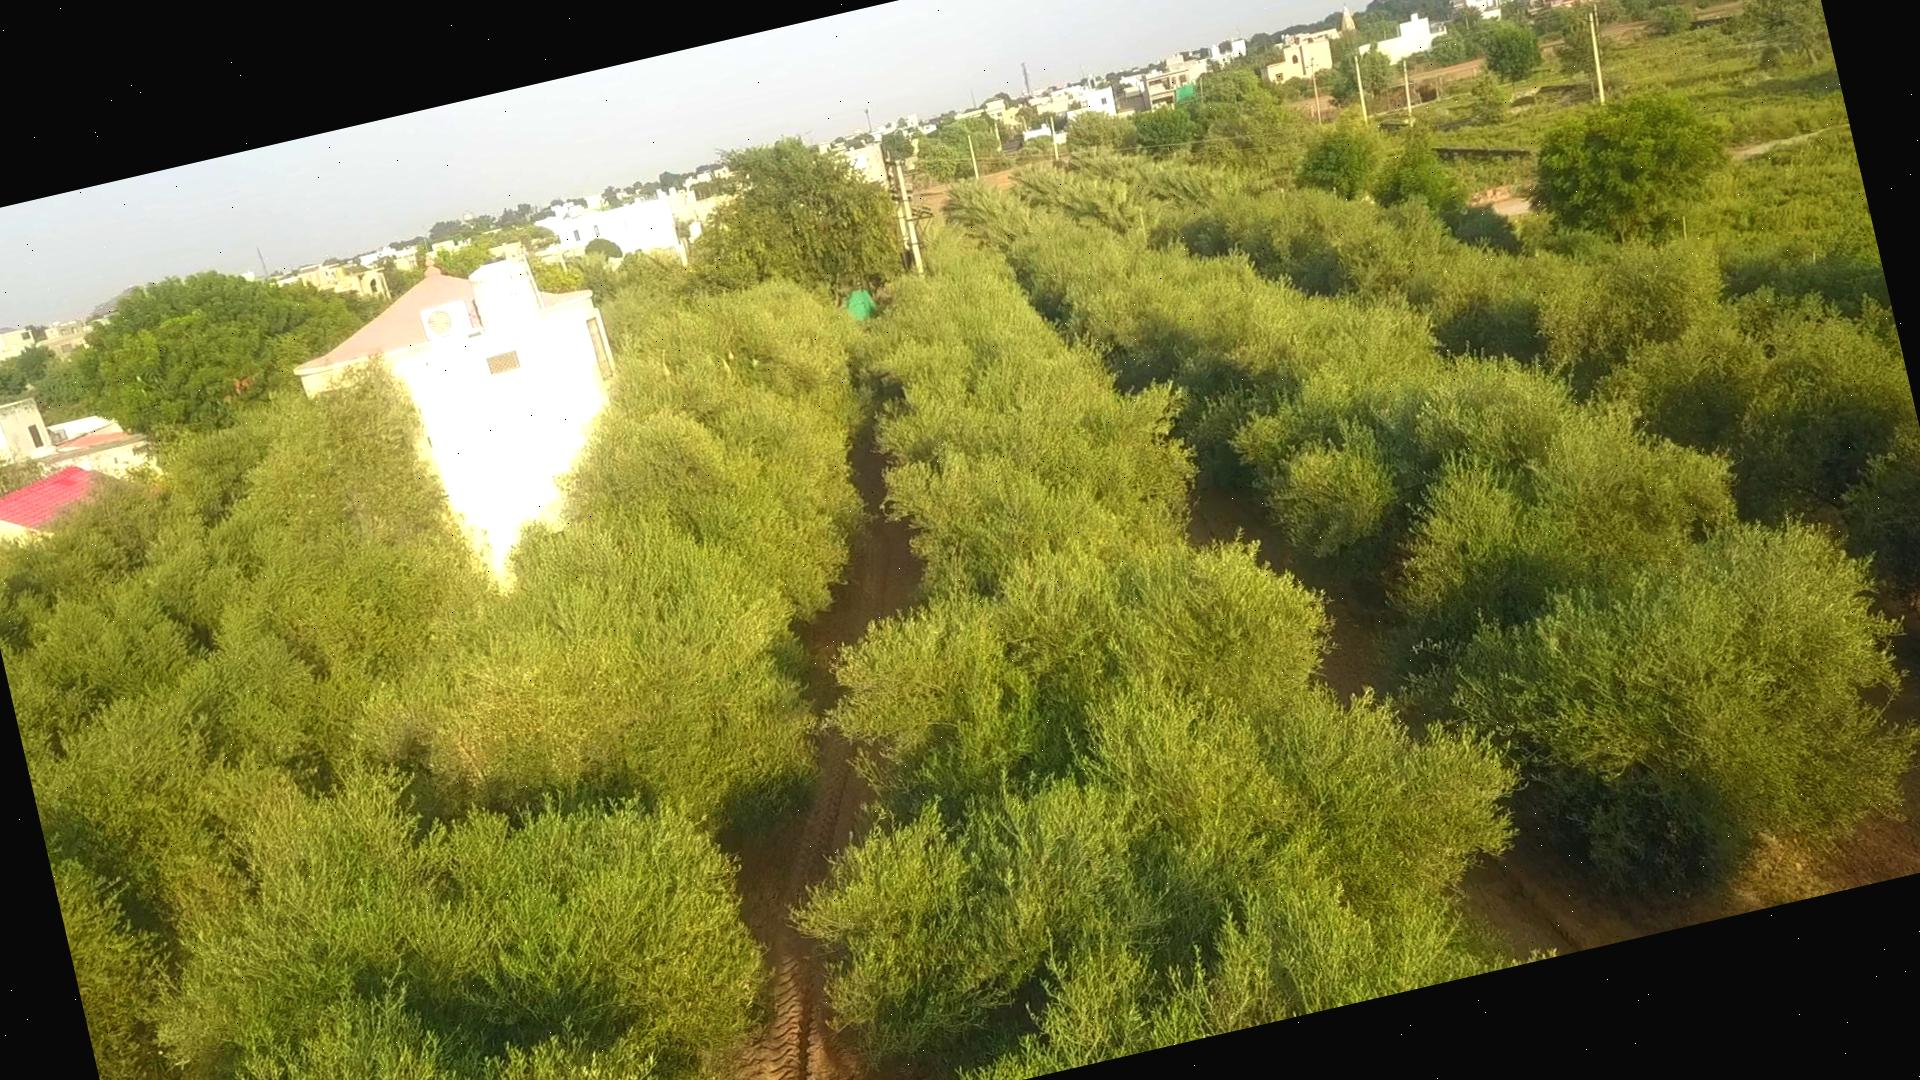canopy: (798, 252, 1512, 1080), (160, 281, 859, 1080), (27, 373, 488, 1080), (1148, 166, 1920, 582)
road: (746, 432, 923, 1080), (1460, 746, 1920, 954), (1190, 483, 1392, 697)
